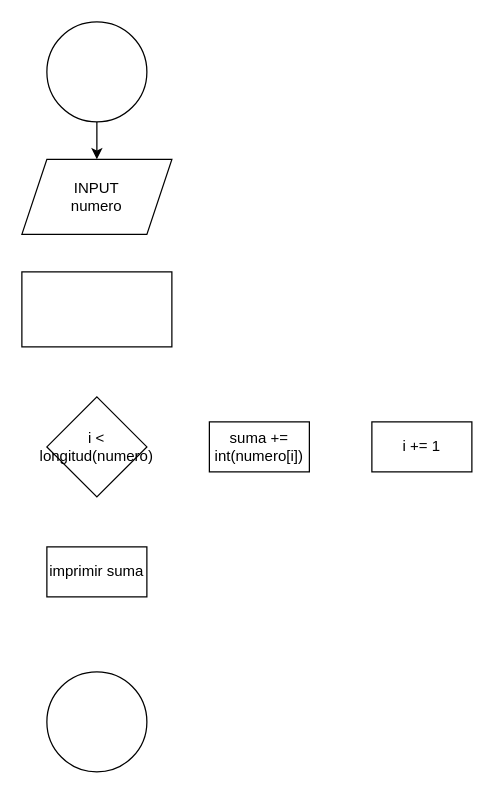
This 494x794 diagram has some shape labels left out. Here are the shapes that lost their labels. From the top down, the centre of each, then its label:
point (96, 71): INICIO
point (96, 309): suma = 0
point (96, 721): FIN
